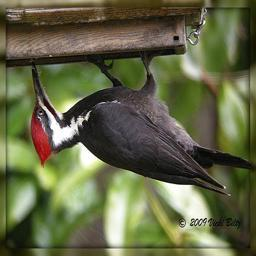Woodpecker: (30, 53, 255, 198)
